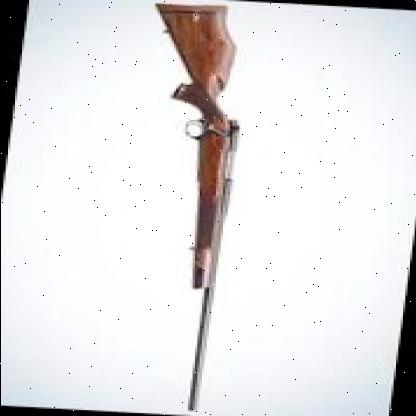rifle: (98, 0, 264, 412)
